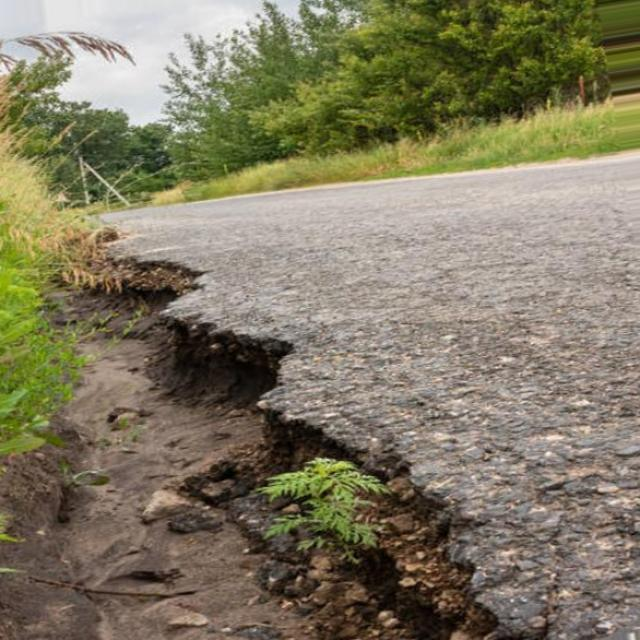Pinggir: (62, 216, 572, 640)
